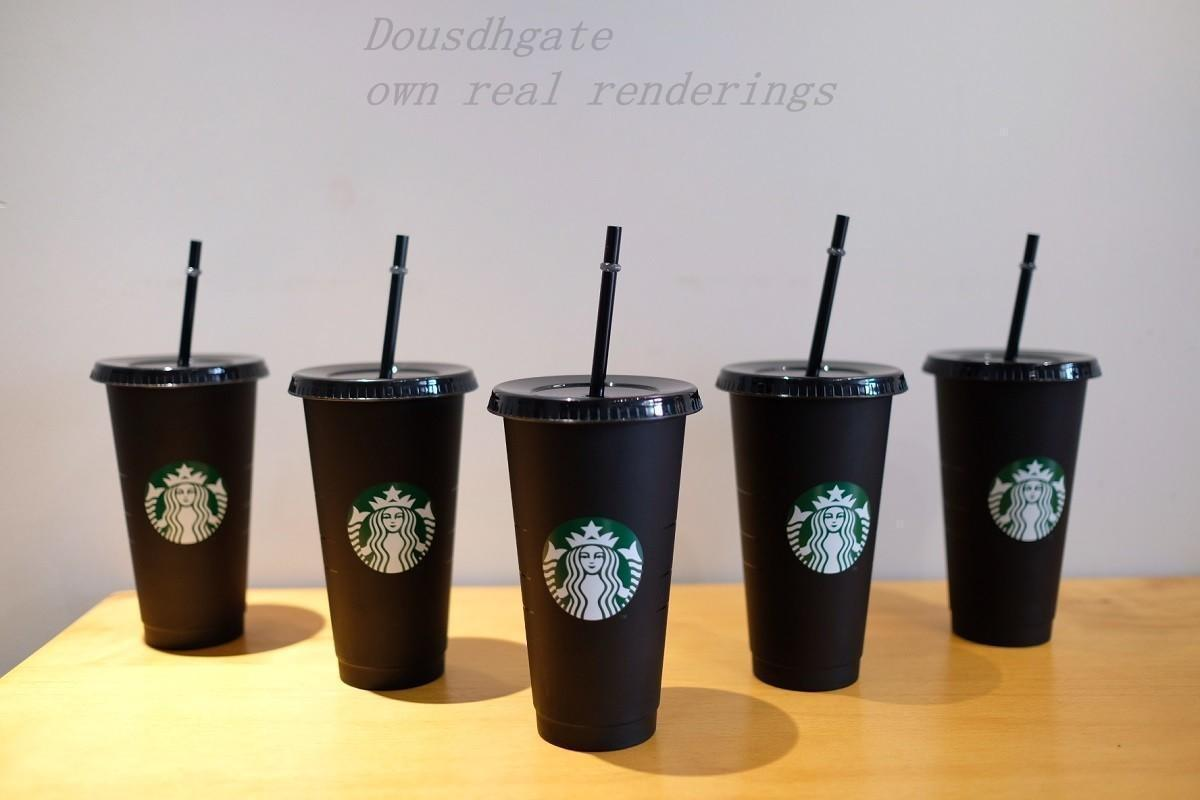cup-disposable: (483, 371, 706, 755), (712, 351, 910, 693), (285, 355, 479, 695), (88, 346, 271, 654), (919, 341, 1102, 648)
